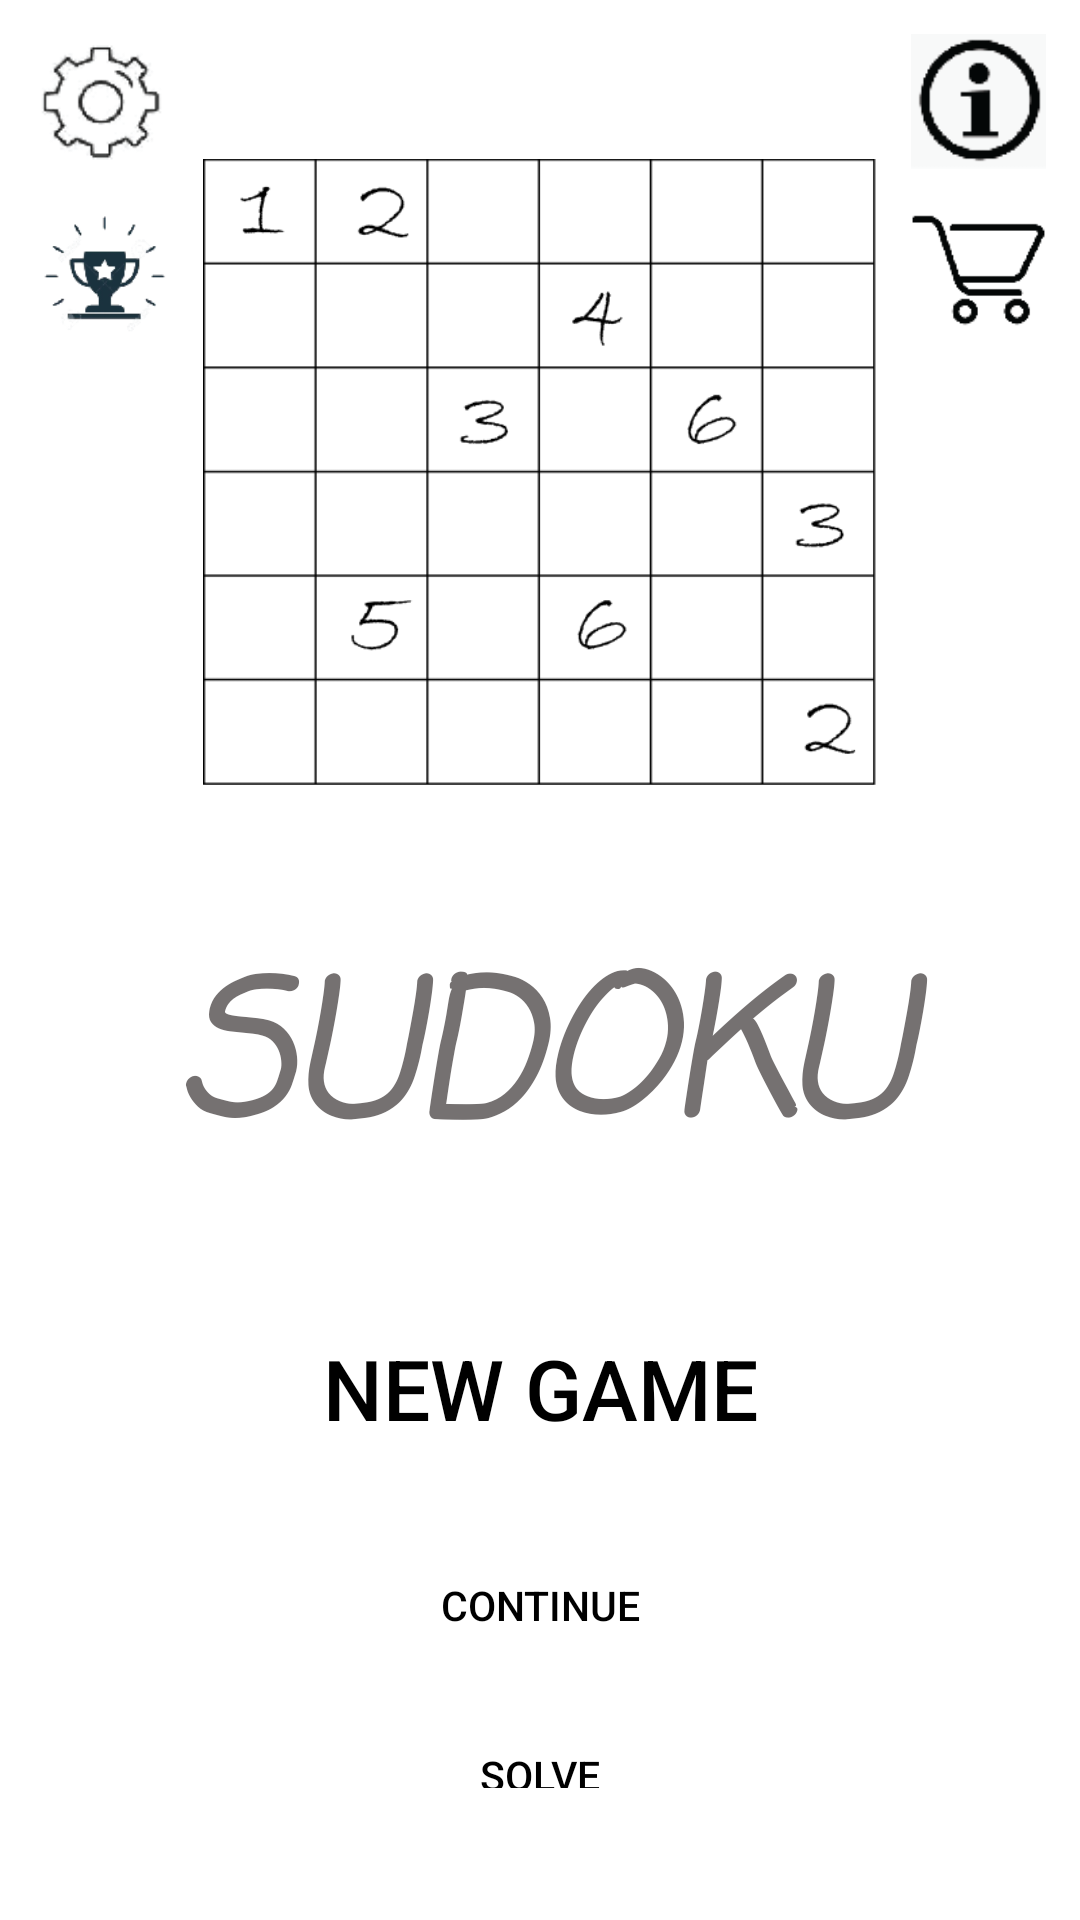

Icons on this 1080 × 1920 Android screen, each with its box as (x1, y1, x2, y2):
highscore: (45, 216, 165, 320)
info: (919, 39, 1041, 161)
market: (912, 215, 1045, 325)
setting: (43, 47, 160, 158)
